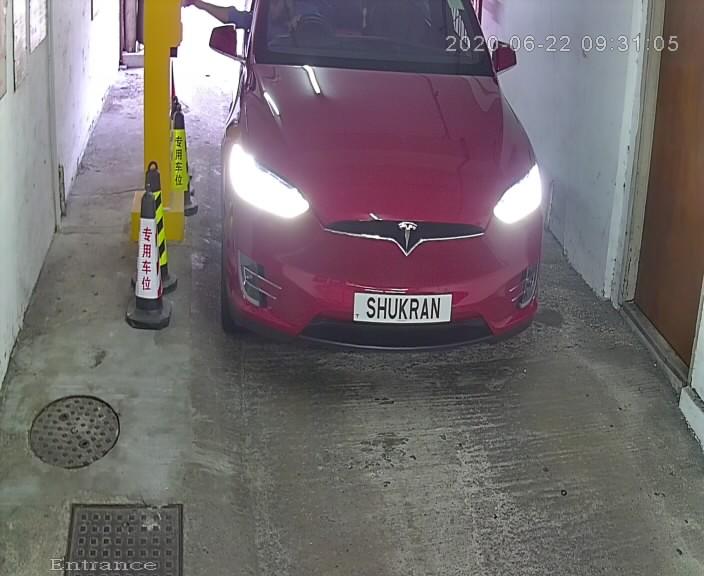privatecar: (207, 1, 568, 367)
